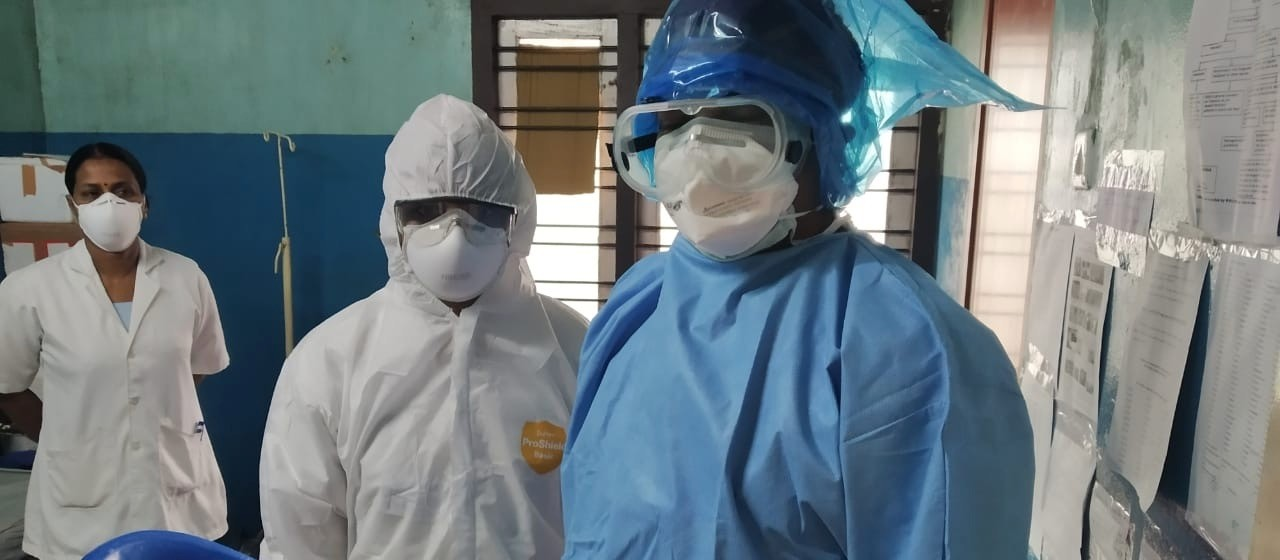Coverall: (559, 4, 1042, 560), (250, 96, 593, 560)
Goggles: (595, 92, 793, 210), (389, 193, 514, 253)
with_mask: (648, 108, 800, 249), (399, 199, 507, 306), (74, 164, 143, 258)
